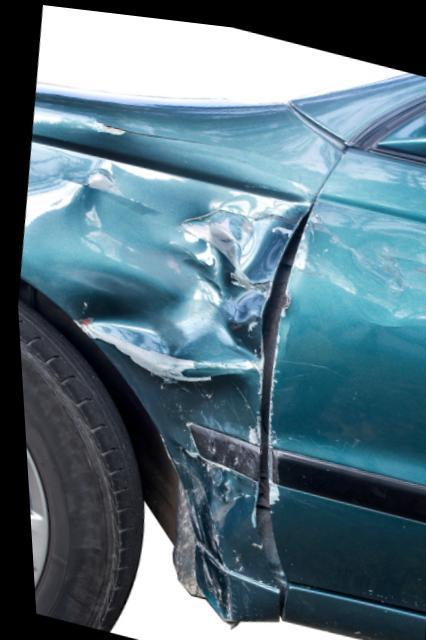dent: (48, 159, 304, 508), (305, 209, 426, 315)
dislocated part: (19, 137, 309, 616)
